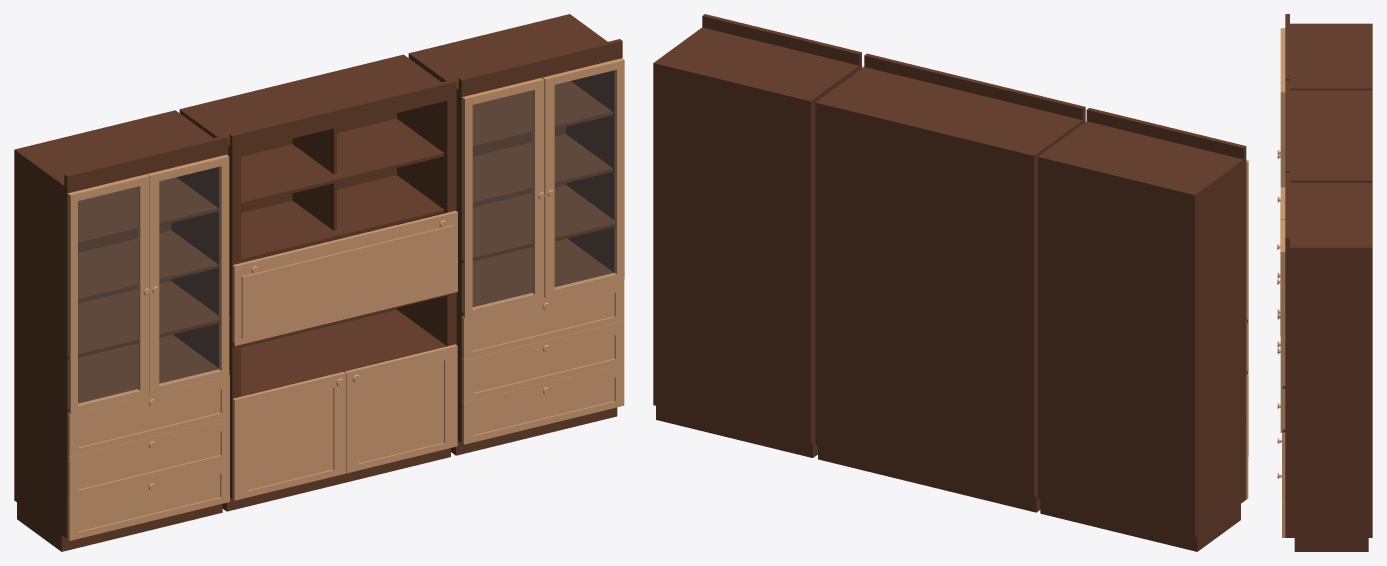
The model's file is Stenka_type2.FBX.
The picture shows the model from 3 angles, left to right: view 1: azimuth 30°, elevation 25°; view 2: azimuth 150°, elevation 25°; view 3: azimuth 270°, elevation 25°; orthographic projection. The views are drawn at different scales.
Parts seen in each view (by area): view 1: Skaf_stenka_type2_011, Skaf_stenka_type2_012, Skaf_stenka_type2_010, Book_shelf_type1_031, Book_shelf_type2_019, Book_shelf_type2_020, Book_shelf_type2_021, Book_shelf_type2_022, Book_shelf_type1_025, Book_shelf_type1_026, Book_shelf_type1_036, Book_shelf_type1_034 (+6 smaller); view 2: Skaf_stenka_type2_011, Skaf_stenka_type2_012, Skaf_stenka_type2_010; view 3: Skaf_stenka_type2_010, Skaf_stenka_type2_011, Skaf_stenka_type2_012, Book_shelf_type2_021, Book_shelf_type2_022, Book_shelf_type2_019, Book_shelf_type2_020, Book_shelf_type1_031, Book_shelf_type1_036, Book_shelf_type1_024, Book_shelf_type1_037.
Part boxes in pixels (x1,y1,x2,y2): Skaf_stenka_type2_011: (179, 54, 457, 511); Skaf_stenka_type2_012: (14, 110, 229, 551); Skaf_stenka_type2_010: (408, 14, 622, 455); Book_shelf_type1_031: (232, 211, 457, 345); Book_shelf_type2_019: (461, 78, 544, 317); Book_shelf_type2_020: (67, 174, 150, 414); Book_shelf_type2_021: (542, 58, 624, 298); Book_shelf_type2_022: (147, 154, 229, 394); Book_shelf_type1_025: (232, 371, 345, 500); Book_shelf_type1_026: (345, 344, 457, 473); Book_shelf_type1_036: (462, 321, 624, 402); Book_shelf_type1_034: (67, 417, 229, 498); Skaf_stenka_type2_011: (815, 53, 1085, 512); Skaf_stenka_type2_012: (1038, 108, 1247, 551); Skaf_stenka_type2_010: (653, 14, 861, 457); Skaf_stenka_type2_010: (1282, 173, 1372, 551); Skaf_stenka_type2_011: (1285, 80, 1372, 182); Skaf_stenka_type2_012: (1285, 14, 1372, 90); Book_shelf_type2_021: (1277, 220, 1285, 432); Book_shelf_type2_022: (1277, 60, 1285, 187); Book_shelf_type2_019: (1277, 187, 1285, 313); Book_shelf_type2_020: (1277, 28, 1285, 154); Book_shelf_type1_031: (1277, 197, 1280, 335); Book_shelf_type1_036: (1277, 438, 1285, 503); Book_shelf_type1_024: (1277, 403, 1285, 468); Book_shelf_type1_037: (1277, 473, 1285, 537).
Bounding box in the file's own units: 876 × 572 × 158.
